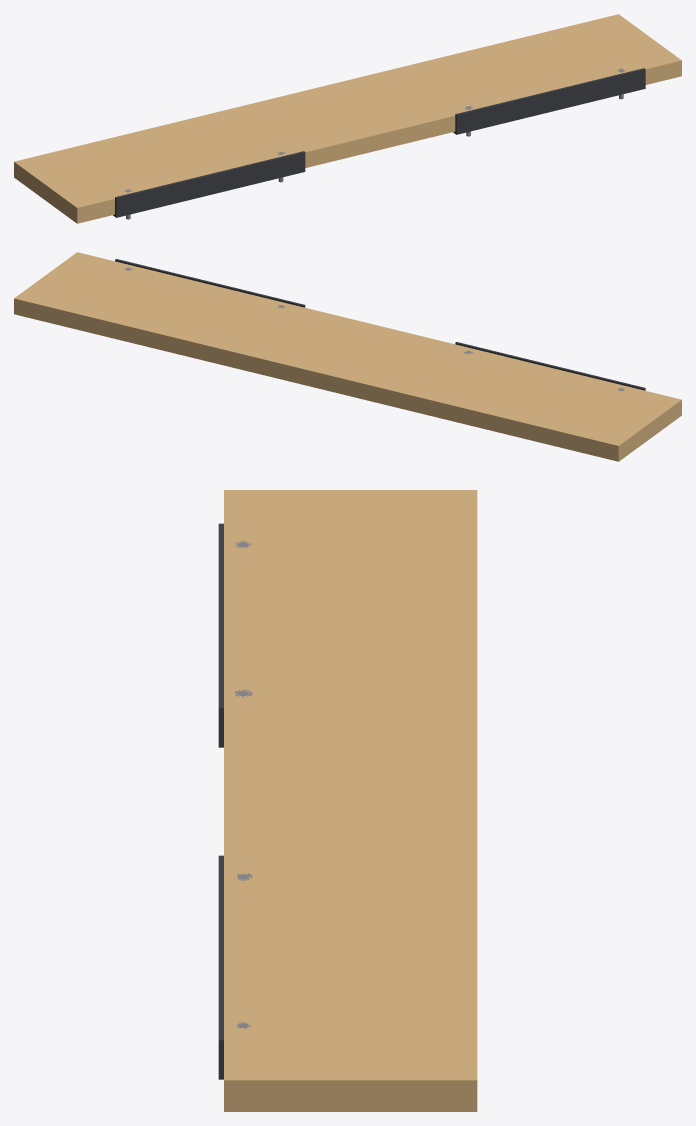
3 views of the same model, one above another, from view 1: azimuth 30°, elevation 25°; view 2: azimuth 150°, elevation 25°; view 3: azimuth 270°, elevation 25° (orthographic). The views are drawn at different scales.
Parts seen in each view (by area): view 1: shelf, bracket_2, bracket_1; view 2: shelf, bracket_2, bracket_1; view 3: shelf, bracket_1, bracket_2.
Part boxes in pixels (x1,y1,x2,y2): shelf: [14, 14, 681, 223]; bracket_2: [453, 68, 645, 134]; bracket_1: [113, 151, 305, 217]; shelf: [14, 252, 681, 461]; bracket_2: [115, 259, 305, 307]; bracket_1: [455, 342, 645, 390]; shelf: [224, 490, 477, 1111]; bracket_1: [218, 523, 223, 747]; bracket_2: [218, 855, 223, 1079].
Size of the model in its own units: 800 by 37 by 148.
